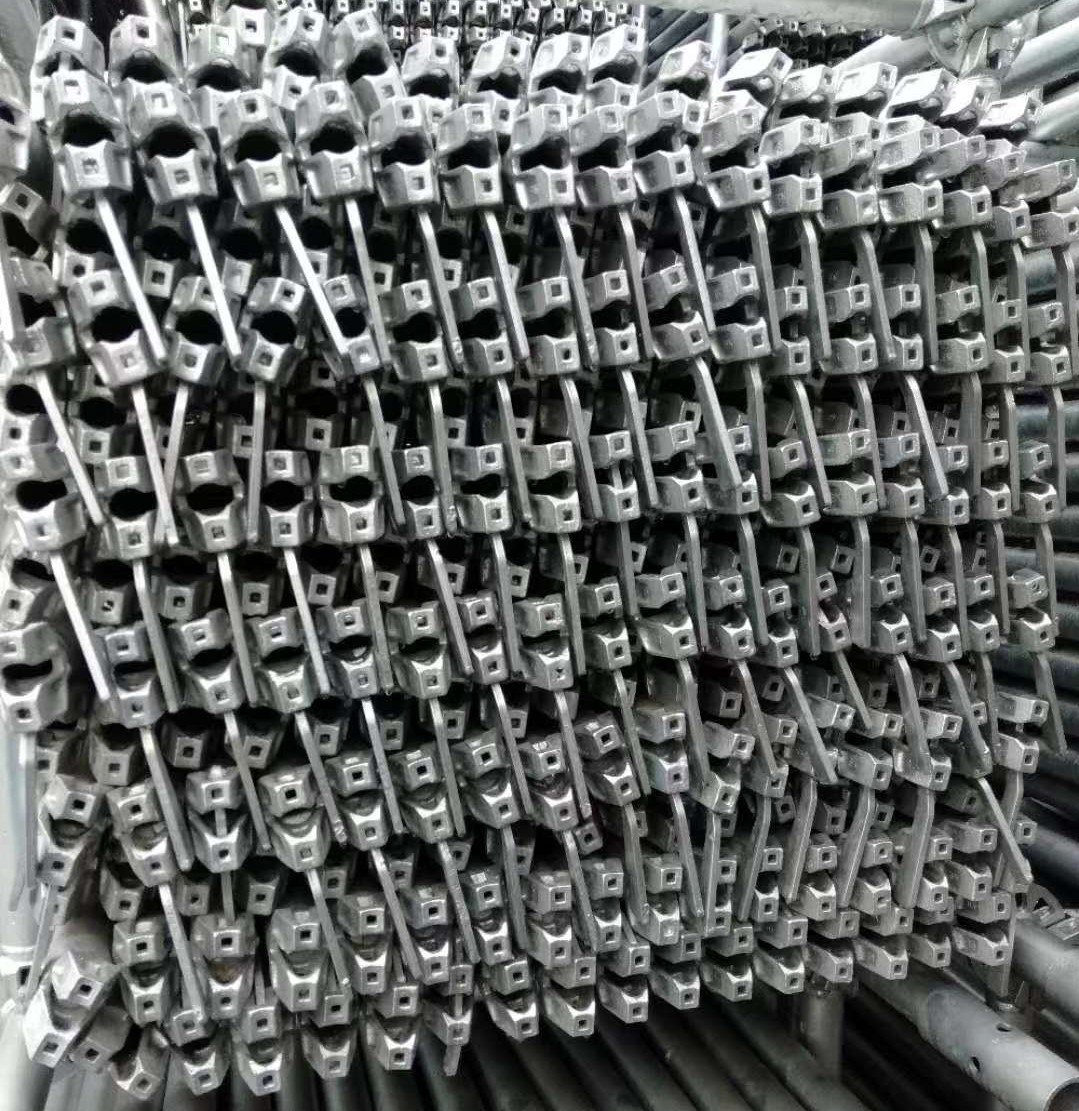THsquare_steel: (67, 270, 157, 386), (124, 87, 208, 204), (224, 280, 315, 384), (212, 90, 295, 203), (22, 957, 107, 1067), (43, 70, 120, 189), (170, 447, 250, 555), (362, 96, 439, 204), (294, 86, 370, 195), (313, 276, 390, 377), (32, 777, 102, 888), (104, 785, 179, 886), (71, 1027, 168, 1105), (167, 280, 239, 384), (7, 444, 74, 554), (643, 262, 714, 364), (249, 448, 322, 547), (514, 274, 584, 376), (94, 450, 157, 563), (322, 443, 391, 546), (332, 8, 409, 100), (707, 260, 775, 364), (260, 9, 328, 112), (439, 106, 508, 207), (389, 280, 457, 382), (512, 443, 589, 533), (249, 607, 315, 712), (388, 603, 457, 703), (575, 105, 642, 207), (187, 922, 260, 1015), (98, 625, 163, 729), (453, 279, 520, 379), (578, 268, 644, 369), (178, 615, 243, 717), (704, 108, 772, 205), (109, 930, 175, 1028), (818, 280, 885, 376), (761, 118, 827, 214), (52, 189, 118, 285), (880, 124, 943, 223), (1, 620, 54, 737), (318, 605, 383, 700), (452, 444, 518, 537), (637, 93, 698, 192), (521, 107, 582, 205), (392, 445, 453, 543), (63, 373, 132, 459), (647, 422, 711, 514), (450, 593, 514, 685), (937, 279, 997, 376), (329, 753, 389, 849), (397, 750, 457, 846), (638, 570, 702, 659), (131, 195, 185, 300), (461, 734, 524, 824), (273, 913, 332, 1008), (661, 39, 718, 136), (282, 193, 343, 283), (521, 739, 584, 825), (692, 723, 755, 809), (341, 900, 397, 996), (572, 580, 634, 666), (592, 22, 653, 109), (697, 570, 757, 657), (521, 595, 577, 688), (401, 895, 460, 983), (580, 724, 643, 806), (935, 137, 993, 226), (763, 440, 823, 526), (458, 878, 521, 959), (164, 1014, 225, 1096), (770, 283, 821, 380), (830, 133, 882, 228), (184, 24, 257, 90), (527, 29, 593, 102), (354, 207, 409, 293), (885, 280, 934, 376), (527, 875, 578, 967), (724, 43, 794, 109), (709, 425, 762, 512), (851, 708, 907, 790), (111, 14, 180, 80), (879, 429, 929, 520), (418, 207, 474, 288), (488, 957, 544, 1038), (469, 30, 535, 98), (828, 433, 882, 516), (235, 1009, 288, 1093), (1021, 300, 1072, 387), (1032, 154, 1079, 248), (805, 569, 857, 653), (577, 866, 630, 948), (985, 148, 1031, 242), (747, 714, 797, 799), (397, 37, 464, 100), (993, 693, 1044, 775), (309, 989, 355, 1079), (549, 958, 600, 1039), (213, 200, 278, 263), (640, 709, 687, 795), (930, 440, 978, 524), (914, 579, 962, 663), (1018, 442, 1067, 524), (760, 576, 805, 665), (1007, 567, 1053, 654), (911, 712, 962, 790), (378, 982, 422, 1072), (608, 946, 658, 1024), (988, 294, 1031, 384), (643, 860, 688, 944), (1, 178, 54, 249), (950, 825, 1000, 899), (797, 843, 845, 919), (871, 906, 920, 980), (4, 374, 54, 446), (869, 574, 914, 653), (889, 68, 958, 119), (1, 557, 53, 624), (764, 918, 809, 995), (962, 573, 1004, 654), (297, 385, 349, 450), (977, 438, 1019, 518), (157, 556, 213, 616), (715, 926, 758, 1004), (160, 713, 219, 769), (663, 940, 708, 1012), (853, 839, 894, 917), (778, 63, 835, 119), (914, 907, 963, 972), (232, 549, 284, 610), (839, 65, 898, 116), (823, 908, 862, 984), (983, 892, 1022, 967), (88, 563, 135, 624), (750, 847, 788, 922), (297, 544, 345, 603), (703, 856, 737, 935), (88, 726, 134, 784), (989, 93, 1045, 140), (919, 835, 953, 912), (437, 389, 482, 444), (501, 536, 543, 593), (372, 693, 413, 748), (948, 80, 991, 132), (243, 714, 285, 767), (307, 706, 349, 757), (507, 385, 543, 442), (668, 376, 708, 426), (439, 539, 477, 590), (375, 547, 410, 600)
THsquare_steel_blocked: (257, 777, 330, 870), (192, 768, 251, 873), (588, 428, 648, 525), (31, 7, 105, 73), (435, 967, 478, 1047)
